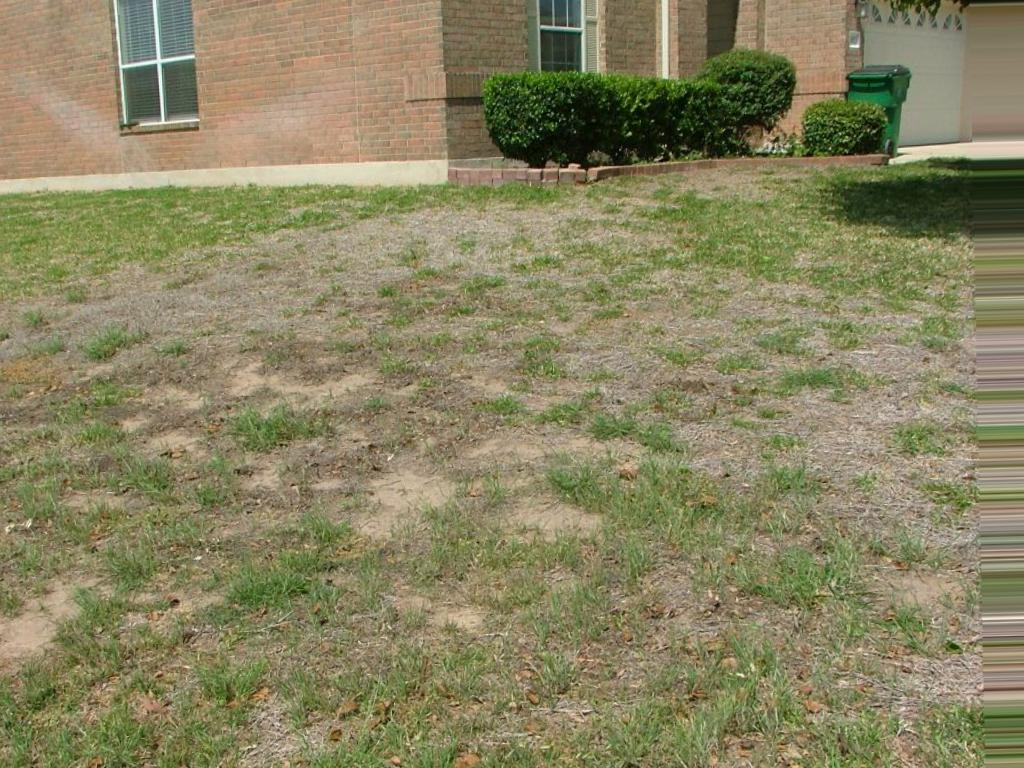patch: (577, 297, 750, 439), (193, 196, 614, 250), (85, 284, 367, 357), (355, 438, 535, 519), (177, 376, 369, 414)
